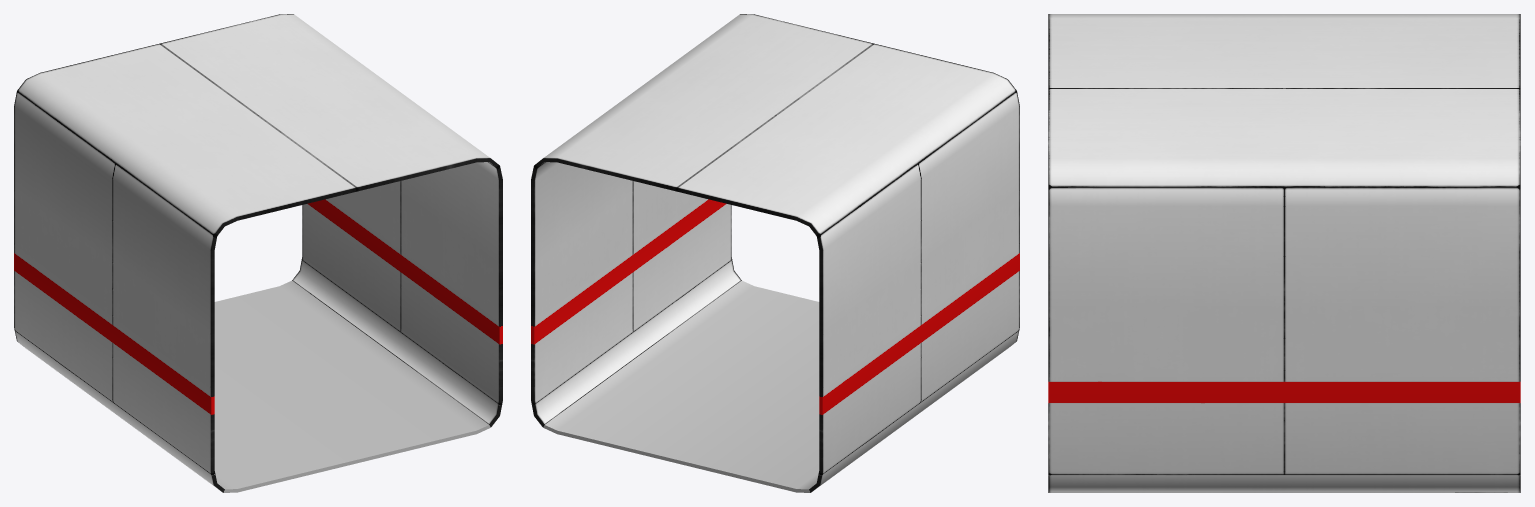
File: Geo_Hallway_Straight.FBX
3 renders of one model, left to right at view 1: azimuth 30°, elevation 25°; view 2: azimuth 150°, elevation 25°; view 3: azimuth 270°, elevation 25°, orthographic. The views are drawn at different scales.
Parts seen in each view (by area): view 1: HallWay_Straight_001; view 2: HallWay_Straight_001; view 3: HallWay_Straight_001.
Boxes of the visible parts, bbox=[...] form: HallWay_Straight_001: bbox=[14, 14, 502, 492]; HallWay_Straight_001: bbox=[531, 14, 1019, 492]; HallWay_Straight_001: bbox=[1048, 14, 1520, 492].
Bounding box in the file's own units: 2.56 × 2.31 × 3.
